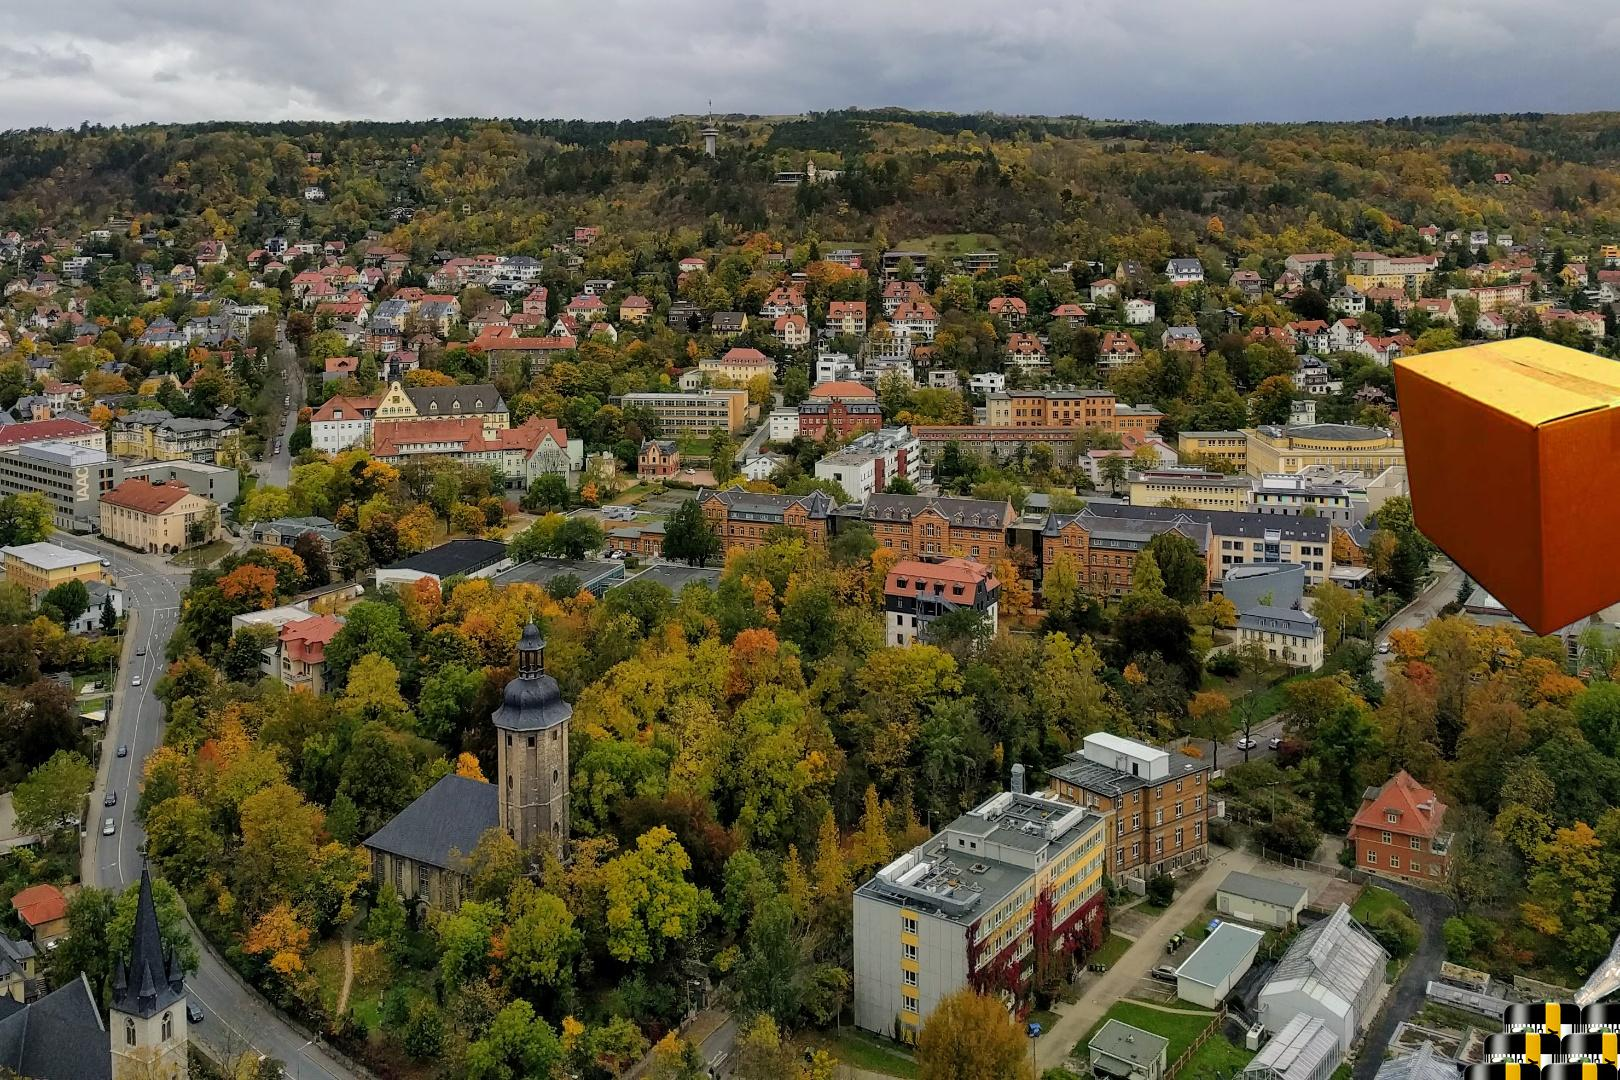battery: (1415, 990, 1620, 1080)
glass: (1569, 853, 1620, 1015)
trashbox-cardboard: (1390, 335, 1620, 639)
